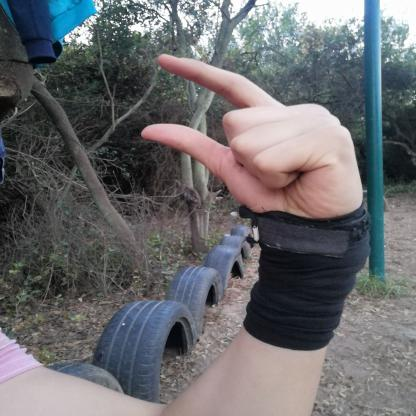DELL: (122, 40, 384, 237)
